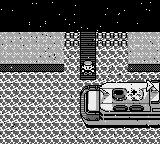captura: (1, 46, 159, 143)
main: (80, 61, 96, 75)
no-caminable: (80, 82, 160, 128), (1, 64, 64, 72), (97, 34, 127, 46), (128, 64, 160, 72), (64, 34, 79, 46)
